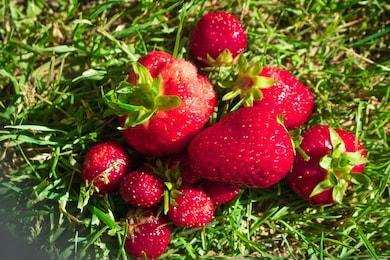Fresa: (115, 47, 220, 161), (183, 97, 297, 194), (282, 117, 371, 210), (234, 58, 317, 131), (185, 7, 254, 73), (161, 182, 218, 234), (81, 135, 130, 195), (121, 167, 172, 209)
